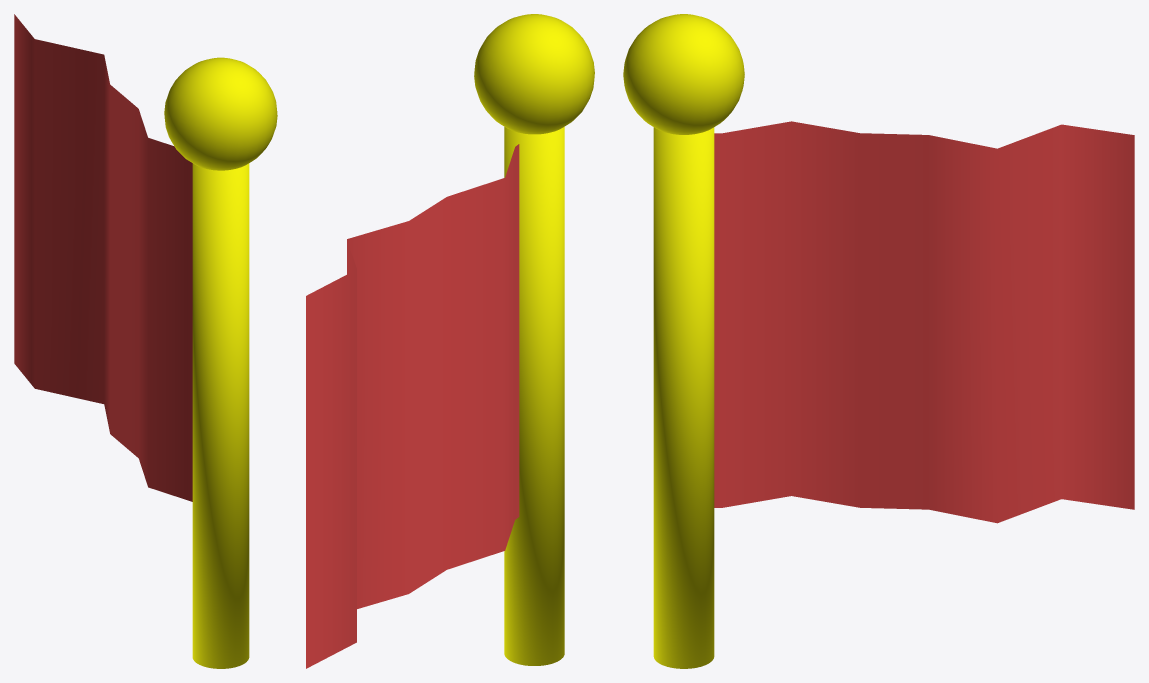
Rendered from Goal.obj.
The picture shows the model from 3 angles, left to right: view 1: azimuth 30°, elevation 25°; view 2: azimuth 150°, elevation 25°; view 3: azimuth 270°, elevation 25°; orthographic projection. The views are drawn at different scales.
Parts seen in each view (by area): view 1: 平面; view 2: 平面; view 3: 平面.
Part boxes in pixels (<box>): 平面: <box>14,14,277,668</box>; 平面: <box>306,14,594,668</box>; 平面: <box>623,14,1134,668</box>.
Size of the model in its own units: 0.4 by 2.31 by 1.68.
Materials: 1 (1 with a texture image).
